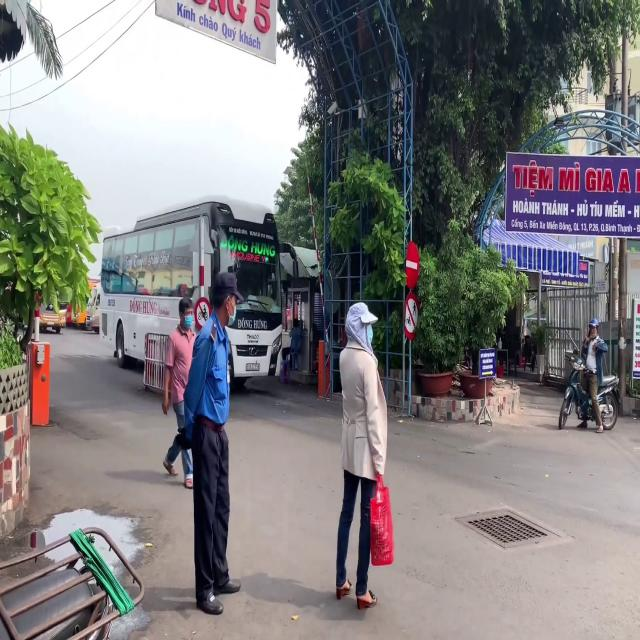bien_trang: (246, 362, 260, 372)
